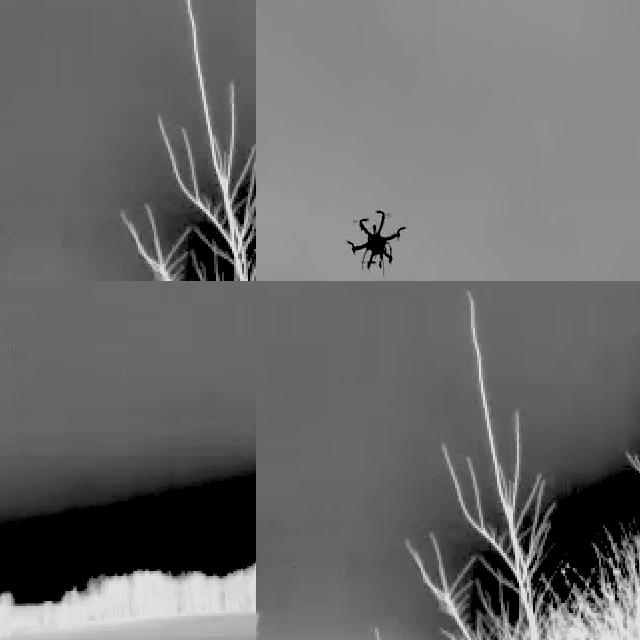0: (634, 307, 640, 340)
drone: (346, 196, 409, 274)
